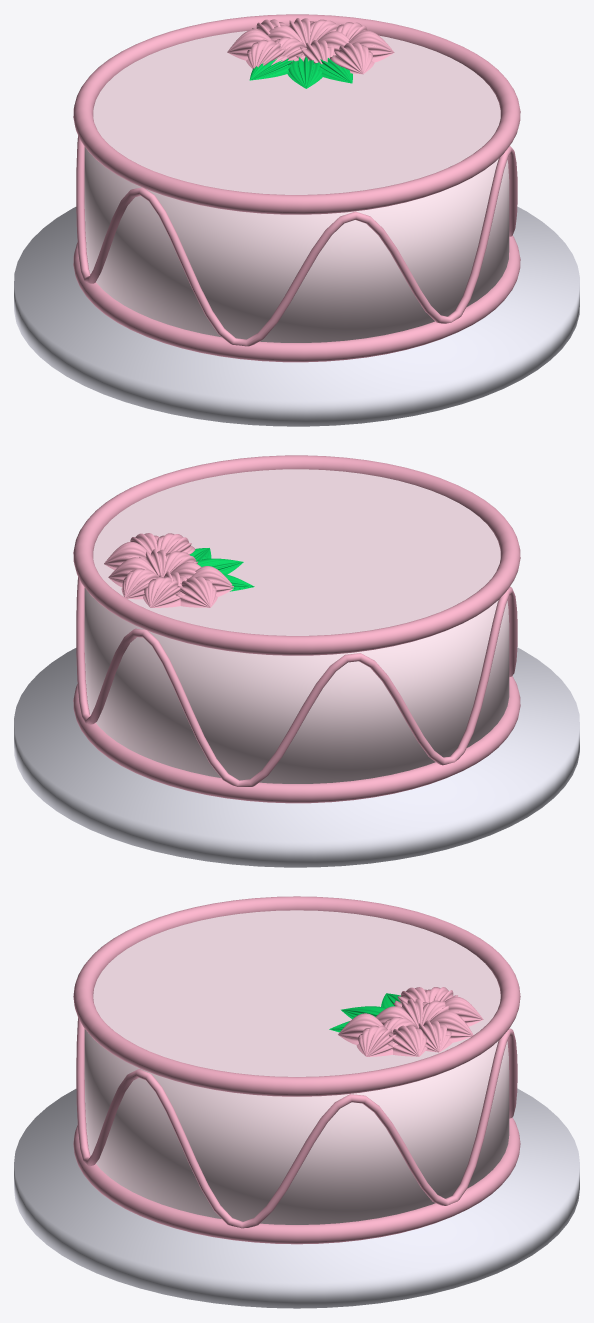
The model's file is round_strawberry_style2.glb.
3 renders of one model, top to bottom at view 1: azimuth 30°, elevation 25°; view 2: azimuth 150°, elevation 25°; view 3: azimuth 270°, elevation 25°, orthographic.
Visible parts, largest first — view 1: CakeBase, IcingStand, CakeTopCircle, IcingRing, IcingRing.001, WaveIcing, leaf.001, design10, design11, design7, design12, design3; view 2: CakeBase, IcingStand, CakeTopCircle, IcingRing, IcingRing.001, WaveIcing, design12, design9, leaf.001, design4, design8, design11 (+2 smaller); view 3: CakeBase, IcingStand, CakeTopCircle, IcingRing, IcingRing.001, WaveIcing, design7, design8, design5, design4, design10, leaf.001 (+1 smaller).
Boxes of the visible parts, box(x1,y1,x2,y2) form: CakeBase: box(84, 147, 509, 342); IcingStand: box(14, 206, 579, 426); CakeTopCircle: box(93, 31, 500, 194); IcingRing: box(73, 14, 520, 214); IcingRing.001: box(73, 235, 520, 362); WaveIcing: box(76, 135, 517, 346); leaf.001: box(249, 57, 352, 88); design10: box(330, 42, 374, 74); design11: box(246, 39, 288, 68); design7: box(349, 30, 394, 62); design12: box(227, 29, 271, 60); design3: box(296, 40, 334, 64); CakeBase: box(84, 588, 509, 783); IcingStand: box(14, 647, 579, 867); CakeTopCircle: box(93, 469, 500, 635); IcingRing: box(73, 455, 520, 655); IcingRing.001: box(73, 676, 520, 803); WaveIcing: box(76, 577, 517, 786); design12: box(175, 576, 217, 607); design9: box(143, 576, 185, 607); leaf.001: box(189, 548, 254, 591); design4: box(121, 568, 159, 599); design8: box(104, 542, 150, 570); design11: box(190, 566, 233, 596); CakeBase: box(84, 1029, 509, 1224); IcingStand: box(14, 1088, 579, 1308); CakeTopCircle: box(93, 910, 500, 1076); IcingRing: box(73, 896, 520, 1096); IcingRing.001: box(73, 1117, 520, 1244); WaveIcing: box(76, 1018, 517, 1228); design7: box(356, 1025, 397, 1056); design8: box(387, 1025, 427, 1056); design5: box(419, 1020, 451, 1052); design4: box(430, 1011, 473, 1042); design10: box(338, 1013, 383, 1044); leaf.001: box(329, 993, 400, 1032).
Bounding box in the file's own units: 4 × 1.69 × 4.
